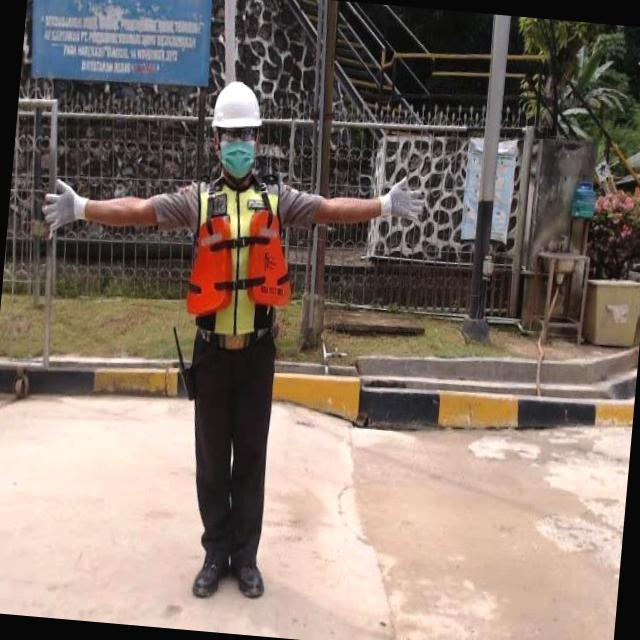vest: (180, 168, 304, 342)
